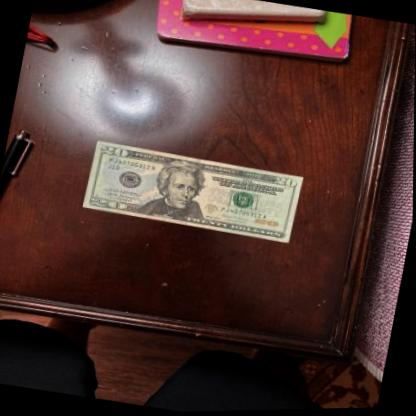twenty-front: (82, 137, 305, 249)
